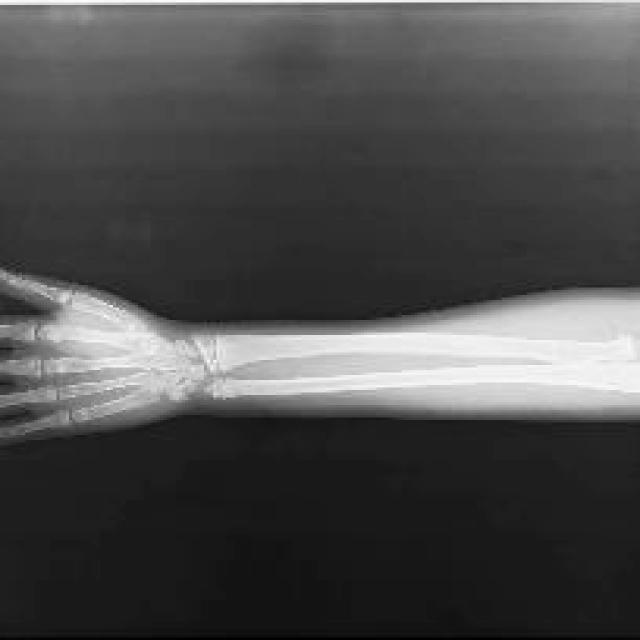normal: (0, 272, 638, 438)
